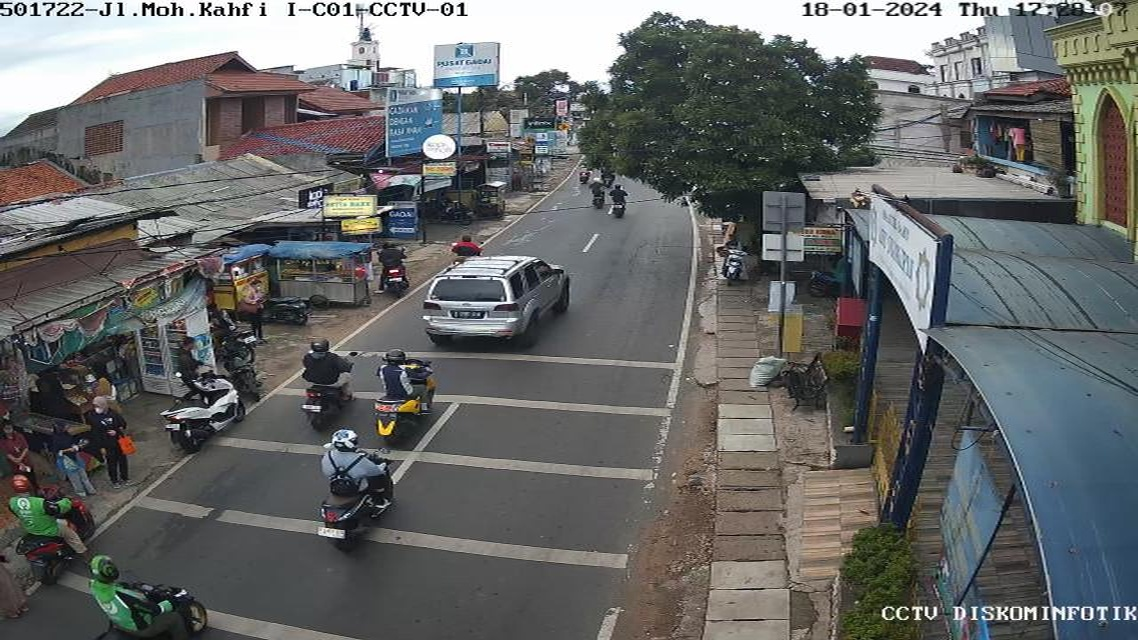Gerobak: (303, 240, 374, 308), (215, 257, 272, 310)
